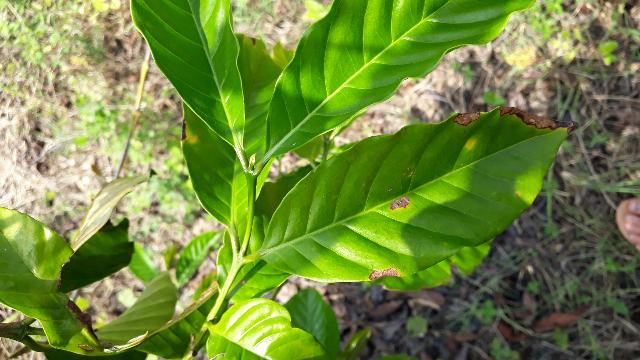rust_level_1: (262, 103, 581, 282)
